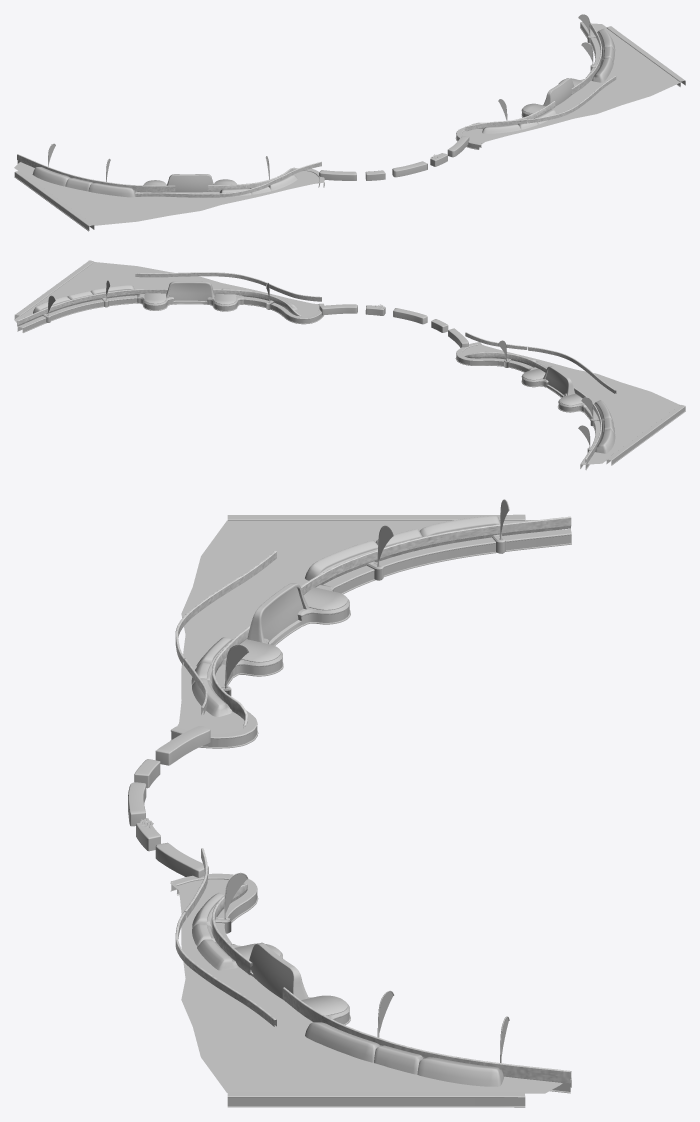
File: pref_Area02_Small_Top_Forest_lv3.fbx
3 views of the same model, one above another, from view 1: azimuth 30°, elevation 25°; view 2: azimuth 150°, elevation 25°; view 3: azimuth 270°, elevation 25° (orthographic). The views are drawn at different scales.
Parts seen in each view (by area): view 1: sm_beach_techfield_a_mirror_lv3, sm_beach_techfield_a_lv3, sm_beach_techglass_north_a_lv3, pref_sm_beach_techgrassny01b_lv3, sm_beach_techfield_b_mirror_lv3, pref_sm_beach_techgrassny01b_mirror_lv3, sm_beach_techfield_b_lv3, sm_beach_techglass_north_b_lv3, sm_beach_techfield_d_lv3; view 2: sm_beach_techfield_a_mirror_lv3, sm_beach_techfield_b_lv3, sm_beach_techfield_a_lv3, sm_beach_techfield_b_mirror_lv3, sm_beach_techglass_north_a_lv3, pref_sm_beach_techgrassny01b_mirror_lv3, pref_sm_beach_techgrassny01b_lv3, sm_beach_techglass_north_b_lv3, pref_sm_beach_techled01a_lv3, sm_beach_techfield_d_mirror_lv3, pref_sm_beach_techled01a_mirror_lv3, sm_beach_techfield_d_lv3; view 3: sm_beach_techfield_a_lv3, sm_beach_techfield_a_mirror_lv3, sm_beach_techfield_b_mirror_lv3, sm_beach_techfield_b_lv3, sm_beach_techglass_north_a_lv3, pref_sm_beach_techgrassny01b_mirror_lv3, pref_sm_beach_techgrassny01b_lv3, sm_beach_techglass_north_b_lv3, sm_beach_techfield_d_mirror_lv3, pref_sm_beach_techled01a_mirror_lv3, sm_beach_techfield_d_lv3.
Boxes of the visible parts, x1,y1,x2,y2 form: sm_beach_techfield_a_mirror_lv3: [14, 162, 322, 225]; sm_beach_techfield_a_lv3: [462, 23, 680, 145]; sm_beach_techglass_north_a_lv3: [17, 22, 616, 197]; pref_sm_beach_techgrassny01b_lv3: [32, 167, 385, 197]; sm_beach_techfield_b_mirror_lv3: [14, 160, 324, 231]; pref_sm_beach_techgrassny01b_mirror_lv3: [392, 28, 615, 177]; sm_beach_techfield_b_lv3: [455, 22, 685, 149]; sm_beach_techglass_north_b_lv3: [208, 101, 555, 191]; sm_beach_techfield_d_lv3: [498, 14, 596, 120]; sm_beach_techfield_a_mirror_lv3: [462, 344, 679, 464]; sm_beach_techfield_b_lv3: [14, 260, 324, 332]; sm_beach_techfield_a_lv3: [14, 262, 319, 322]; sm_beach_techfield_b_mirror_lv3: [455, 342, 685, 470]; sm_beach_techglass_north_a_lv3: [17, 272, 616, 464]; pref_sm_beach_techgrassny01b_mirror_lv3: [33, 285, 427, 324]; pref_sm_beach_techgrassny01b_lv3: [431, 319, 615, 453]; sm_beach_techglass_north_b_lv3: [213, 289, 546, 372]; pref_sm_beach_techled01a_lv3: [169, 283, 211, 301]; sm_beach_techfield_d_mirror_lv3: [498, 340, 599, 452]; pref_sm_beach_techled01a_mirror_lv3: [545, 368, 567, 394]; sm_beach_techfield_d_lv3: [42, 280, 274, 322]; sm_beach_techfield_a_lv3: [170, 879, 562, 1093]; sm_beach_techfield_a_mirror_lv3: [177, 520, 560, 733]; sm_beach_techfield_b_mirror_lv3: [170, 514, 571, 748]; sm_beach_techfield_b_lv3: [170, 873, 571, 1107]; sm_beach_techglass_north_a_lv3: [175, 516, 571, 1083]; pref_sm_beach_techgrassny01b_mirror_lv3: [128, 782, 503, 1086]; pref_sm_beach_techgrassny01b_lv3: [134, 516, 503, 788]; sm_beach_techglass_north_b_lv3: [212, 625, 252, 975]; sm_beach_techfield_d_mirror_lv3: [220, 499, 509, 695]; pref_sm_beach_techled01a_mirror_lv3: [261, 587, 303, 641]; sm_beach_techfield_d_lv3: [215, 872, 509, 1063].
Size of the model in its own units: 110 by 5.11 by 35.44.
